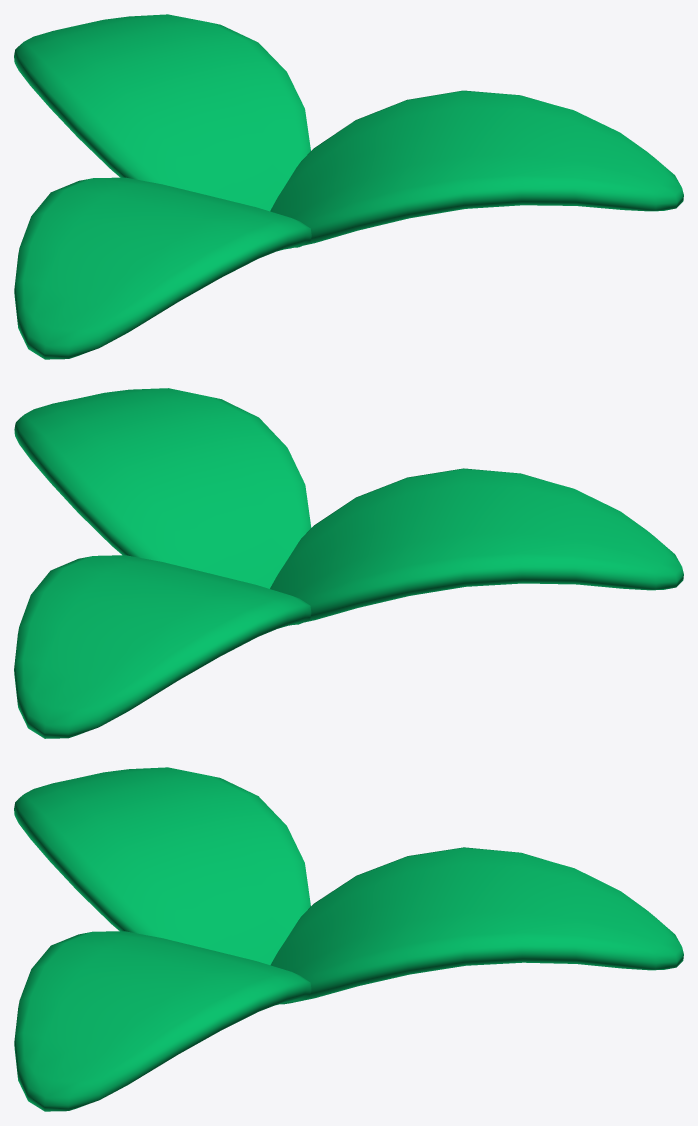
Rendered from Farm_19_Grass_1.glb.
3 renders of one model, top to bottom at view 1: azimuth 30°, elevation 25°; view 2: azimuth 150°, elevation 25°; view 3: azimuth 270°, elevation 25°, orthographic.
Visible parts, largest first — view 1: Farm_19_Grass_1; view 2: Farm_19_Grass_1; view 3: Farm_19_Grass_1.
Boxes of the visible parts, x1,y1,x2,y2 form: Farm_19_Grass_1: [14, 14, 683, 359]; Farm_19_Grass_1: [14, 388, 683, 738]; Farm_19_Grass_1: [14, 767, 683, 1111].
Bounding box in the file's own units: 0.6032 × 0.0974 × 0.5392.
1 material, 1 textured.
